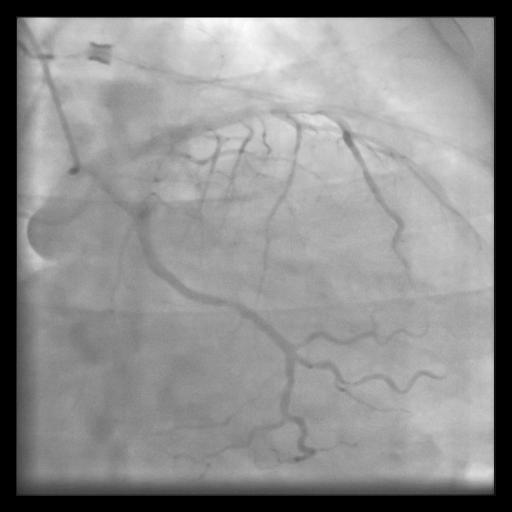Stenosis: (222, 294, 240, 309)
